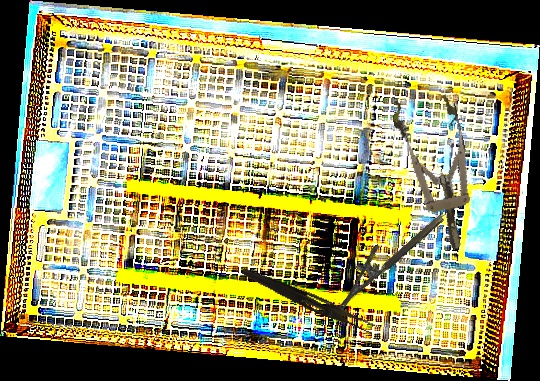Dressing Forceps: (238, 266, 378, 335)
Needle Holder: (323, 200, 446, 311)
Speculum: (389, 87, 487, 257)
